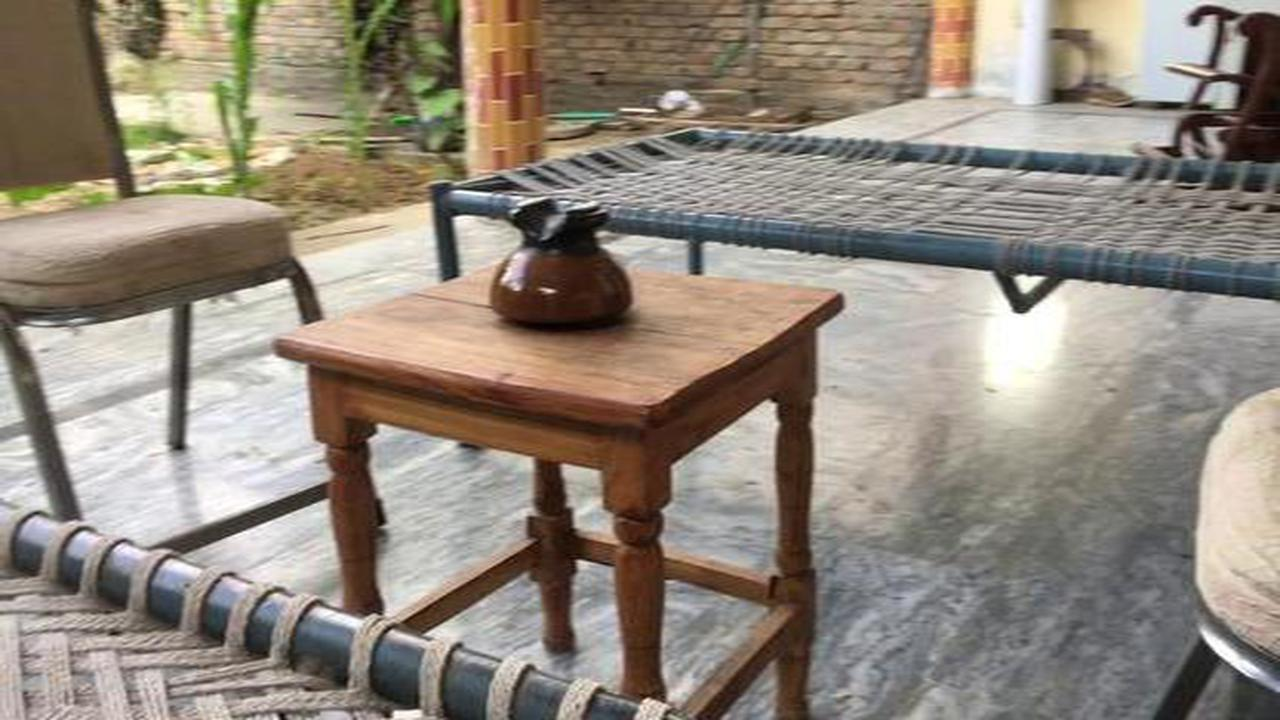insulator_pin: (474, 182, 647, 340)
